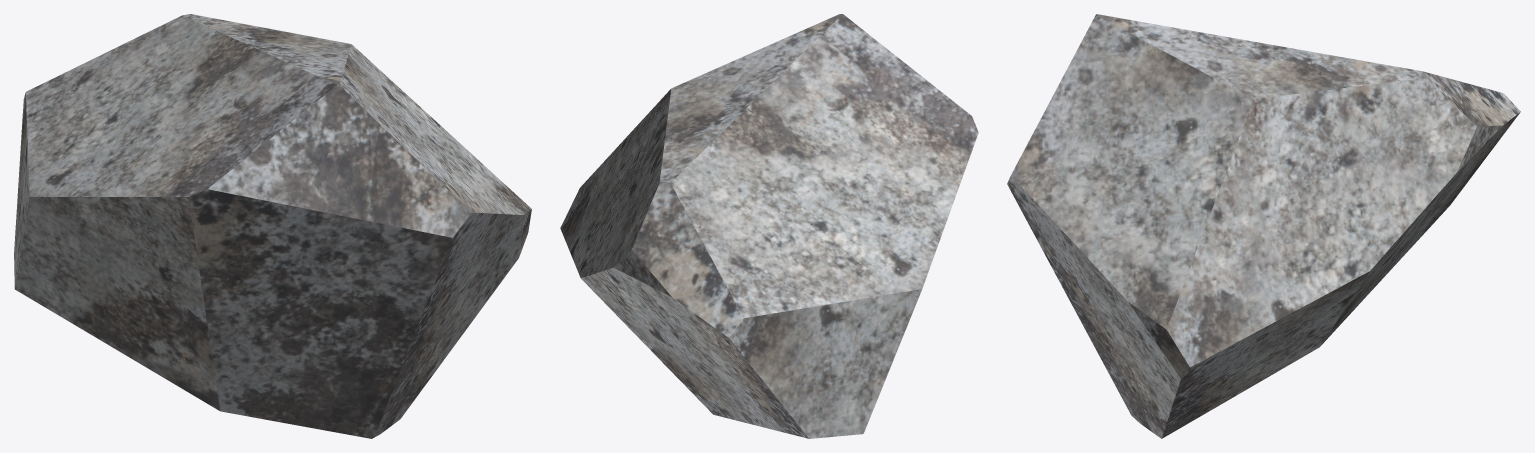
Rendered from Asteroid_Large_001_02_009_03_007.fbx.
3 views of the same model, side by side, from view 1: azimuth 30°, elevation 25°; view 2: azimuth 150°, elevation 25°; view 3: azimuth 270°, elevation 25° (orthographic).
Visible parts, largest first — view 1: Asteroid_Large_001_02_009_03_007; view 2: Asteroid_Large_001_02_009_03_007; view 3: Asteroid_Large_001_02_009_03_007.
Part boxes in pixels (x1=…): Asteroid_Large_001_02_009_03_007: x1=14, y1=14, x2=531, y2=438; Asteroid_Large_001_02_009_03_007: x1=560, y1=14, x2=978, y2=438; Asteroid_Large_001_02_009_03_007: x1=1007, y1=14, x2=1520, y2=438.
Size of the model in its own units: 12.82 by 10.82 by 13.31.
